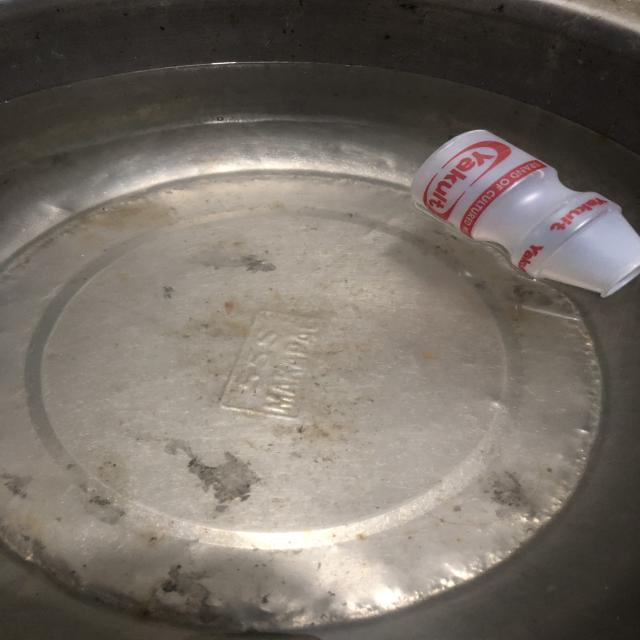Plastic Bottle: (372, 110, 640, 332)
